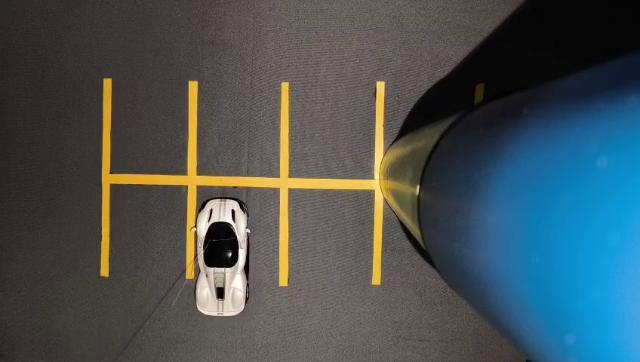toy_car: (190, 188, 264, 325)
